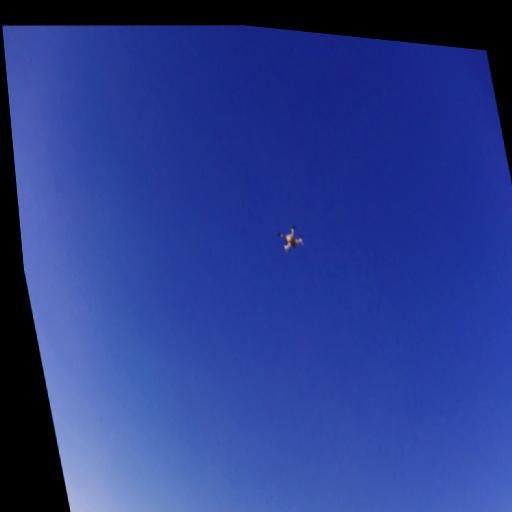drones: (274, 219, 311, 261)
